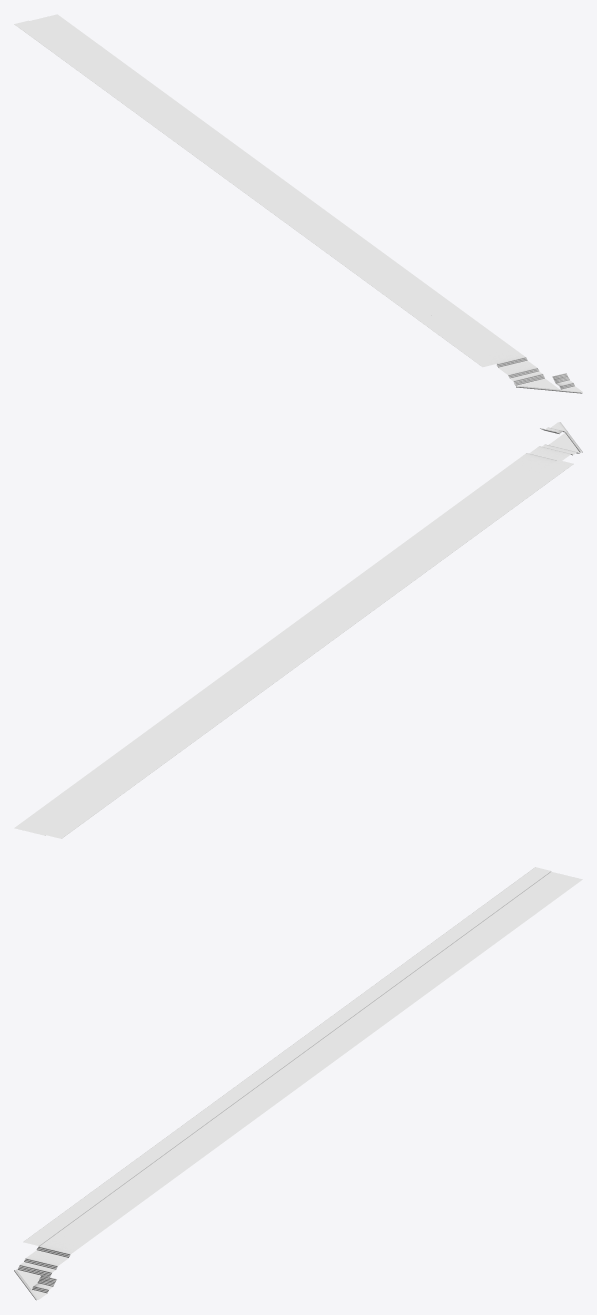
Rendered from road.glb.
3 renders of one model, top to bottom at view 1: azimuth 30°, elevation 25°; view 2: azimuth 150°, elevation 25°; view 3: azimuth 330°, elevation 25°, orthographic. The views are drawn at different scales.
Visible parts, largest first — view 1: road; view 2: road; view 3: road.
Part boxes in pixels (box(x1,y1,x2,y2)): road: box(14, 14, 582, 393); road: box(14, 422, 582, 838); road: box(14, 867, 582, 1300).
Size of the model in its own units: 18.39 by 2.47 by 284.
1 material, 1 textured.
